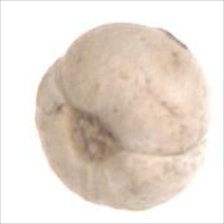L4: (35, 22, 211, 212)
